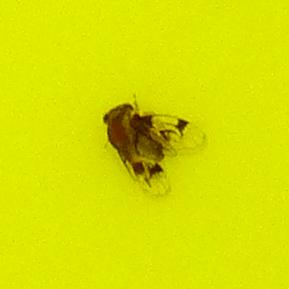Hemiptera: (100, 100, 189, 189)
